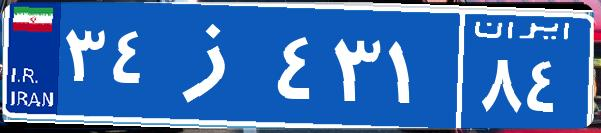1: (385, 28, 445, 110)
3: (330, 28, 385, 110), (57, 26, 110, 107)
4: (273, 28, 330, 110), (110, 28, 158, 105), (525, 38, 570, 115)
8: (475, 38, 525, 113)
ز: (158, 15, 273, 115)
